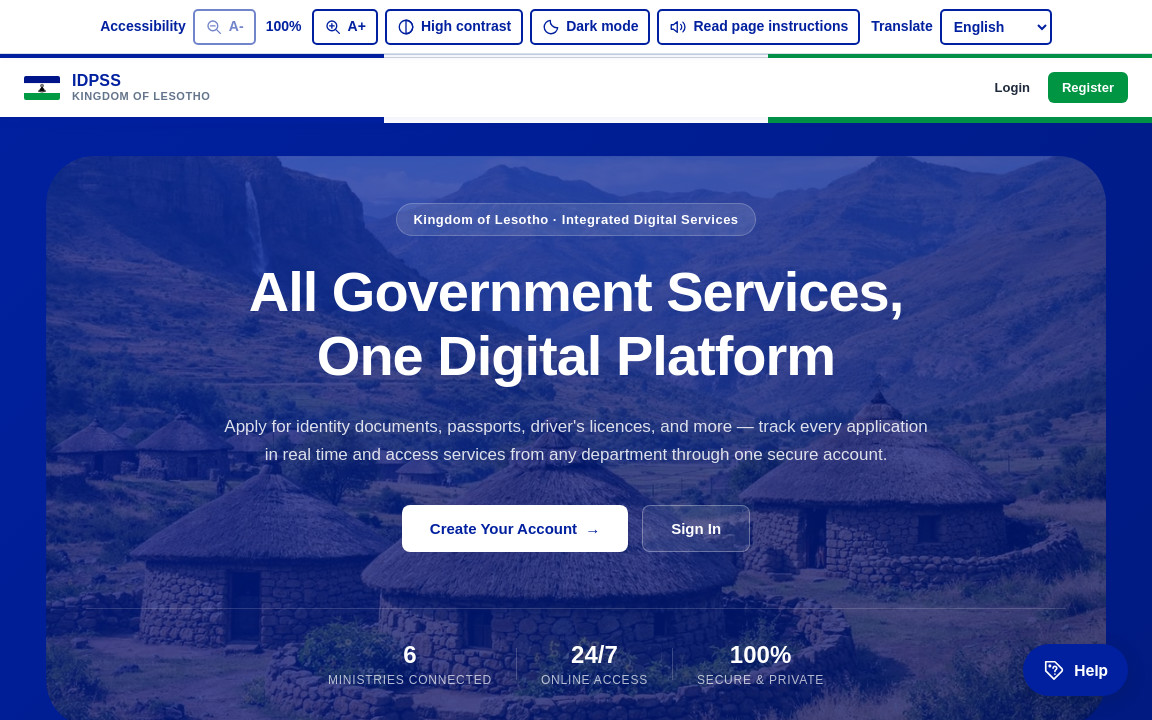
Test: opens the help page from the help button
The image size is (1152, 720).
Click the button "Help": (1076, 670) 1023,644 -> 1128,696
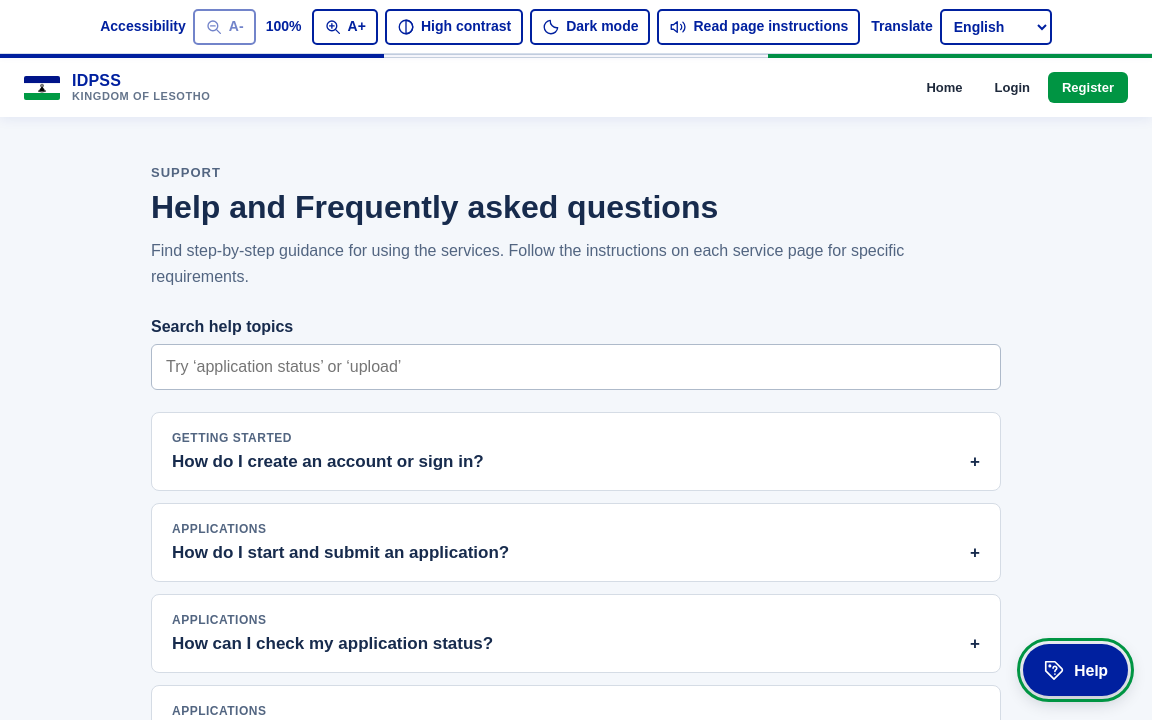
Now the heading "Help and Frequently asked questions" is shown, box 151,189 -> 718,225
